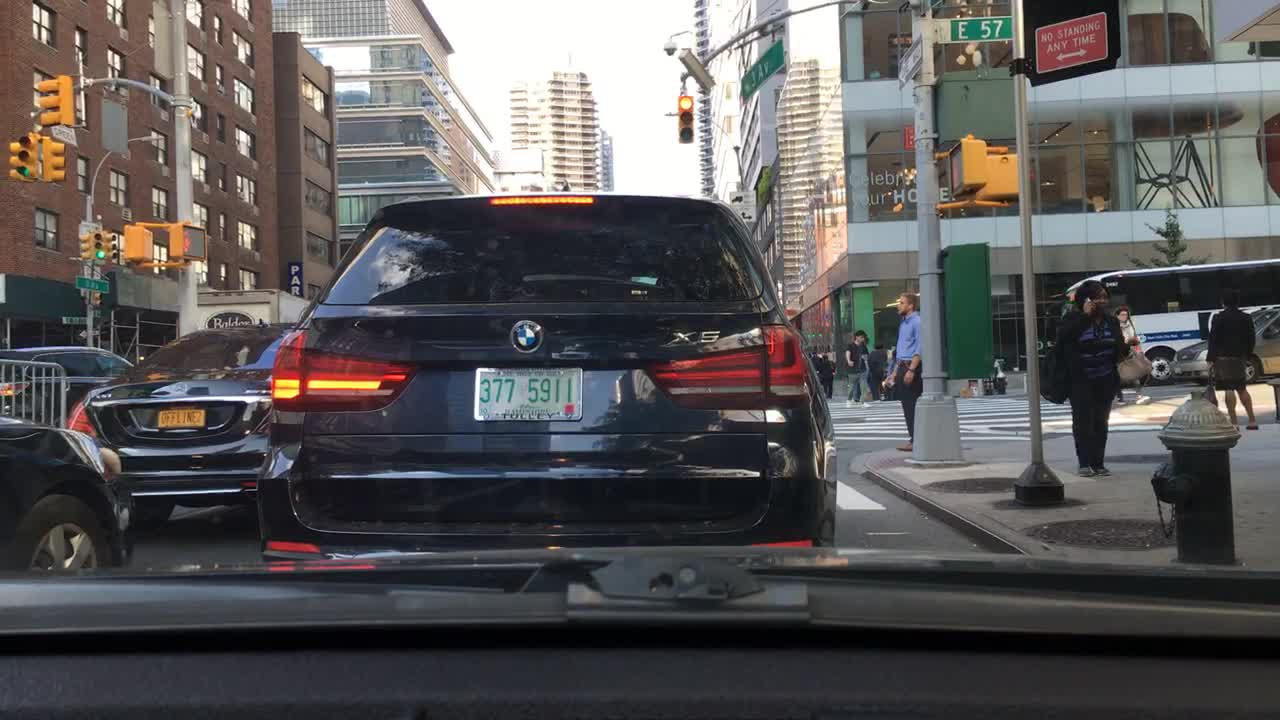bus: (1060, 260, 1277, 383)
car: (248, 191, 836, 582), (64, 324, 308, 534), (0, 415, 130, 590), (0, 345, 132, 425)
person: (1056, 276, 1130, 477), (1202, 293, 1260, 431), (885, 293, 922, 450), (1108, 307, 1152, 405), (847, 329, 871, 405), (880, 345, 903, 399), (865, 341, 881, 399), (820, 348, 835, 397), (807, 347, 821, 377)
traffic light: (945, 136, 982, 200), (980, 154, 1023, 202), (33, 75, 63, 128), (170, 225, 206, 263), (124, 223, 153, 263), (676, 93, 695, 145), (43, 138, 65, 181), (15, 136, 30, 179), (103, 228, 118, 263), (8, 136, 18, 181), (92, 225, 104, 260), (78, 228, 89, 263), (90, 290, 99, 309)
traffic sign: (1034, 11, 1108, 71), (733, 37, 781, 101), (948, 17, 1014, 39), (58, 315, 100, 326), (75, 275, 99, 294), (78, 328, 100, 340)
truck: (177, 290, 313, 343)
